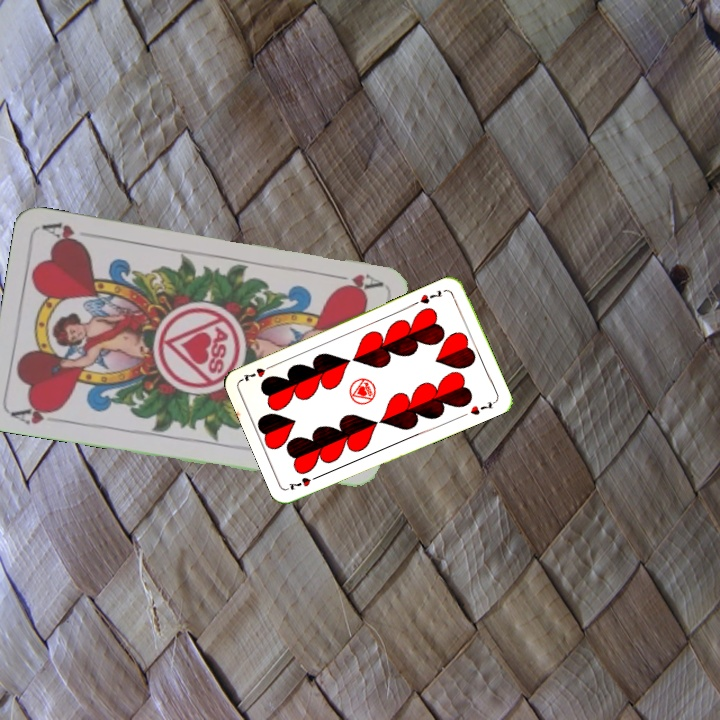H7: (285, 471, 323, 493), (410, 286, 445, 307)
HA: (8, 400, 67, 428), (325, 270, 384, 294)
